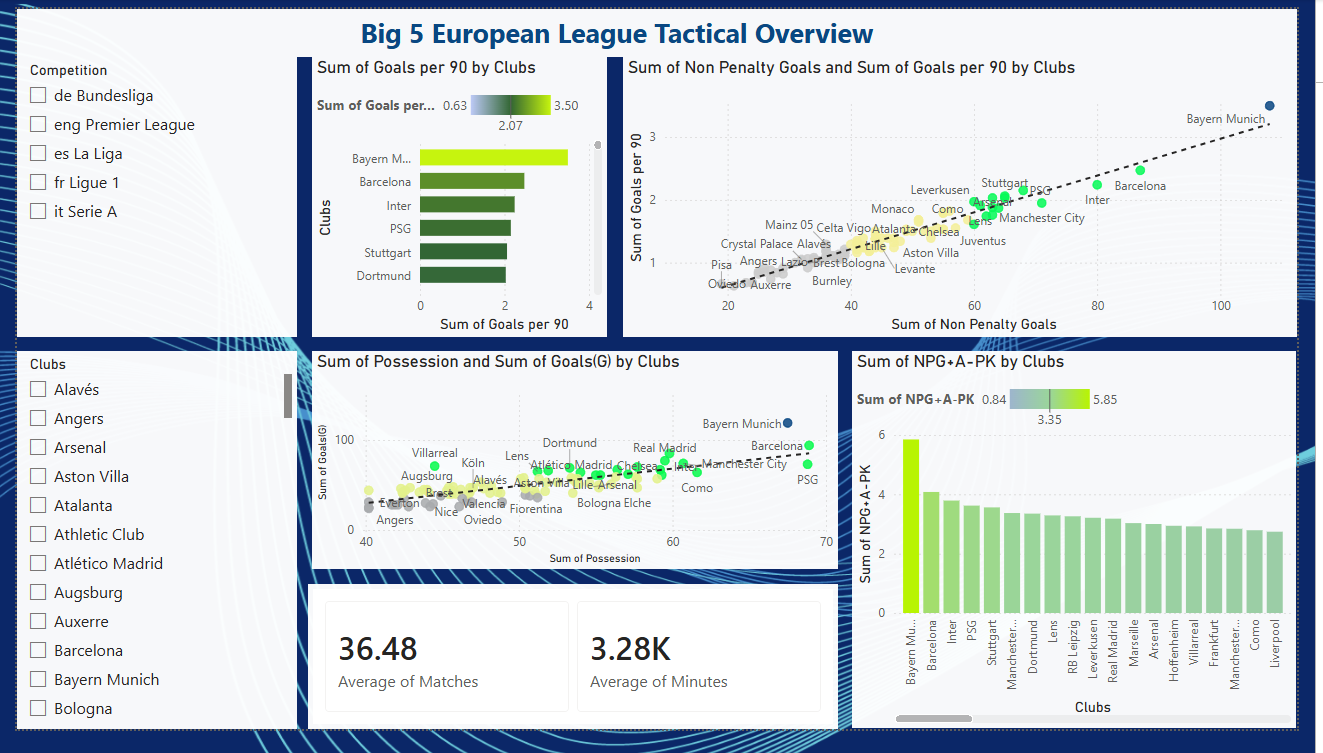

What the dashboard file says about the page in this screenshot:
{"tool":"powerbi","page":{"name":"Page 1","canvas":[1280,720],"ordinal":0},"visuals":[{"type":"slicer","fields":{"Values":["Dim_Clubs.Competition"]},"box":[0,47.7,280.1,280.1],"z":0},{"type":"slicer","fields":{"Values":["Dim_Clubs.Clubs"]},"box":[0,342.4,280.1,377.4],"z":1000},{"type":"scatterChart","fields":{"X":["Sum(Big5_attacking_data.Possession)"],"Y":["Sum(Big5_attacking_data.Goals(G))"],"Category":["Dim_Clubs.Clubs"]},"box":[295,342,526,218],"z":2000},{"type":"clusteredBarChart","fields":{"Category":["Big5_attacking_data.Clubs"],"Y":["Sum(Big5_attacking_data.Goals per 90)"]},"box":[295,48,295,280],"z":3000},{"type":"scatterChart","fields":{"Y":["Sum(Big5_attacking_data.Goals per 90)"],"X":["Sum(Big5_attacking_data.Non Penalty Goals)"],"Category":["Big5_attacking_data.Clubs"]},"box":[605.6,47.8,674.4,280],"z":4000},{"type":"cardVisual","fields":{"Data":["Avg(Big5_attacking_data.Matches)","Avg(Big5_attacking_data.Minutes)"]},"box":[291,575,530,145],"z":5000},{"type":"textbox","box":[0,0,1280,47.7],"z":6000},{"type":"columnChart","fields":{"Category":["Big5_attacking_data.Clubs"],"Y":["Sum(Big5_attacking_data.NPG+A-PK)"]},"box":[835,342,444,377],"z":7000}]}

Visuals, with their boxes in screenshot pixels (x1, y1, x2, y2), scaled from the page's 1280x720 canvas onto the 1323x753 screenshot:
slicer - Dim_Clubs.Competition: Rect(0, 50, 290, 343)
slicer - Dim_Clubs.Clubs: Rect(0, 358, 290, 752)
scatterChart - Sum(Big5_attacking_data.Possession) x Sum(Big5_attacking_data.Goals(G)): Rect(305, 358, 849, 586)
clusteredBarChart - Big5_attacking_data.Clubs x Sum(Big5_attacking_data.Goals per 90): Rect(305, 50, 610, 343)
scatterChart - Sum(Big5_attacking_data.Goals per 90) x Sum(Big5_attacking_data.Non Penalty Goals): Rect(626, 50, 1322, 343)
cardVisual - Avg(Big5_attacking_data.Matches) x Avg(Big5_attacking_data.Minutes): Rect(301, 601, 849, 752)
textbox: Rect(0, 0, 1322, 50)
columnChart - Big5_attacking_data.Clubs x Sum(Big5_attacking_data.NPG+A-PK): Rect(863, 358, 1322, 752)
